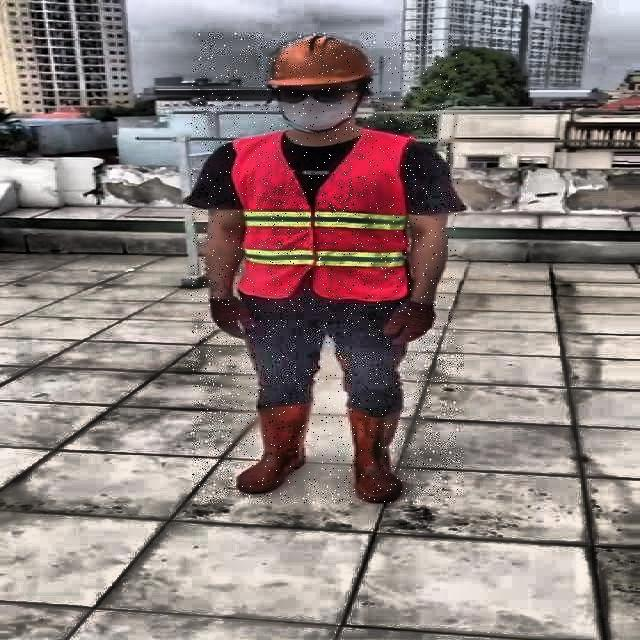safety_helmet: (264, 35, 369, 89)
safety_jacket: (232, 132, 412, 303)
